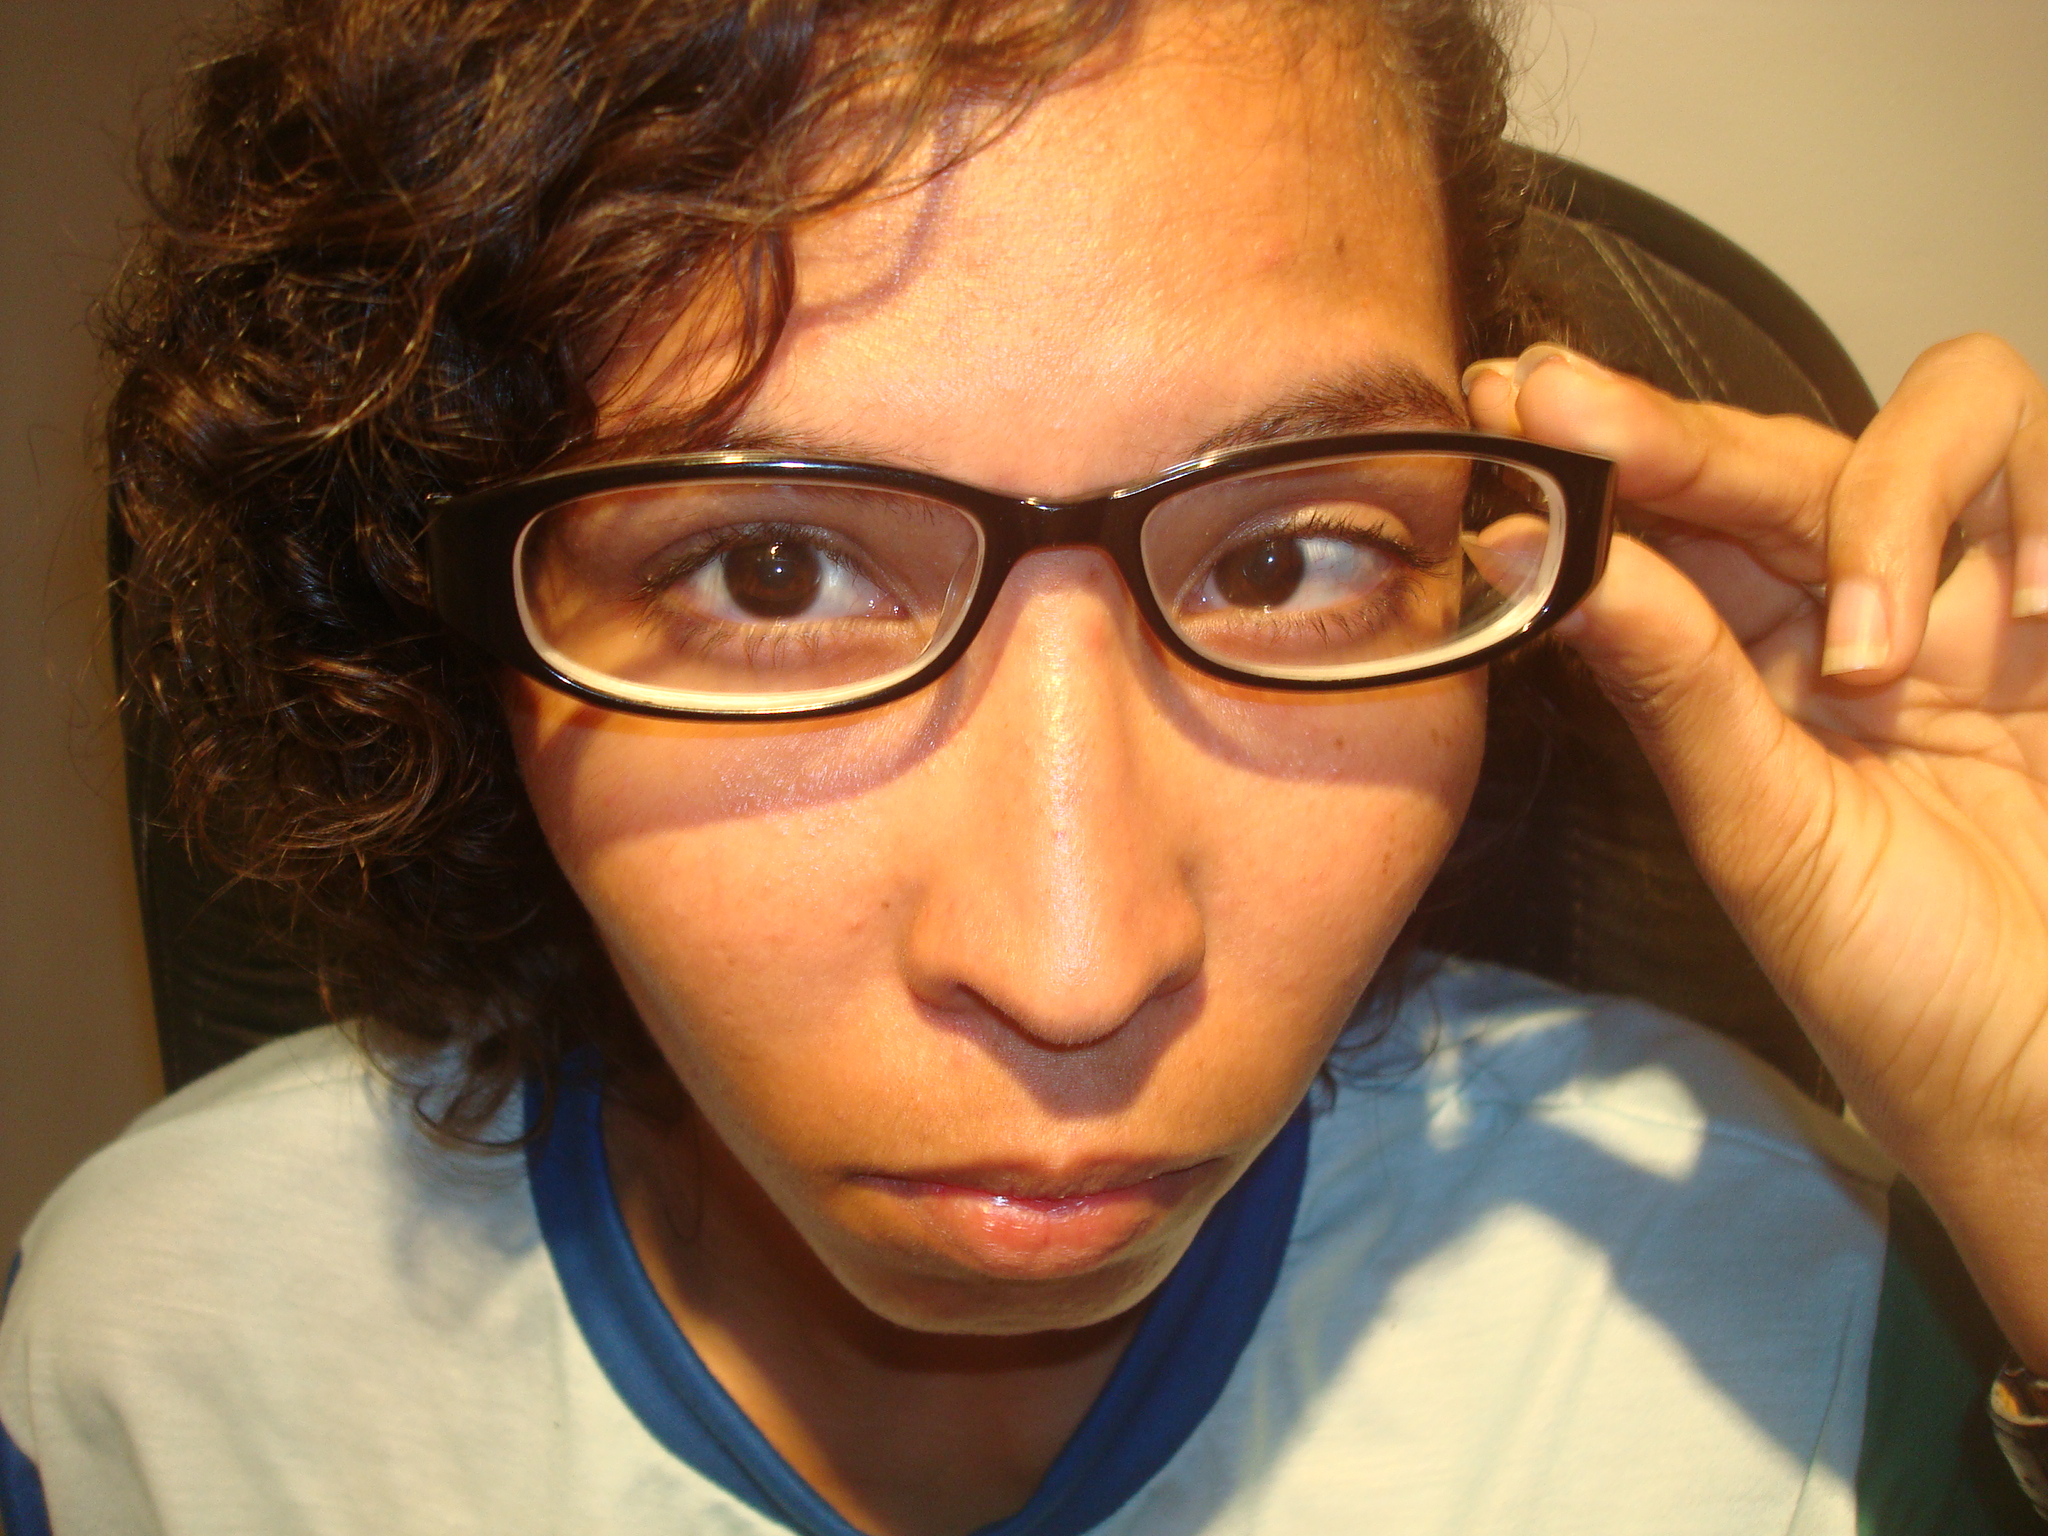flash: (1264, 553, 1276, 566), (774, 565, 784, 576)
limbo: (726, 529, 822, 615), (1211, 531, 1303, 603)
